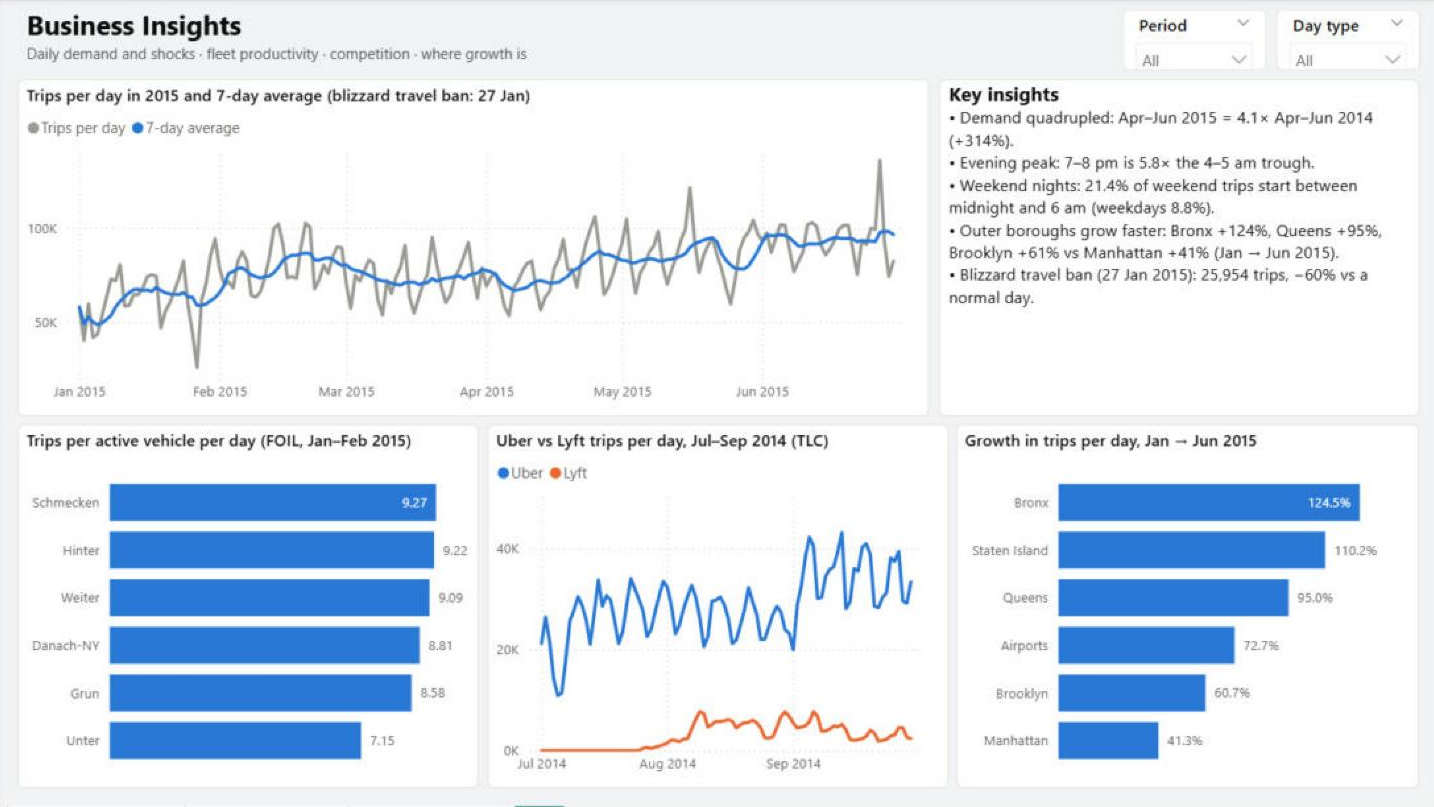

What the dashboard file says about the page in this screenshot:
{"tool":"powerbi","page":{"name":"Business Insights","canvas":[1280,720],"ordinal":2},"visuals":[{"type":"textbox","box":[16,8,976,56],"z":1000},{"type":"slicer","fields":{"Values":["Date.Period"]},"box":[1000,10,128,54],"z":2000},{"type":"slicer","fields":{"Values":["Date.Day Type"]},"box":[1136,10,128,54],"z":3000},{"type":"lineChart","title":"Trips per day in 2015 and 7-day average (blizzard travel ban: 27 Jan)","fields":{"Category":["Date.Date"],"Y":["_Measures.Trips 2015","_Measures.Trips 7-Day Avg 2015"]},"box":[16,72,812,300],"z":4000},{"type":"textbox","box":[836,72,428,300],"z":5000},{"type":"clusteredBarChart","title":"Trips per active vehicle per day (FOIL, Jan–Feb 2015)","fields":{"Category":["dim_base.base_name"],"Y":["_Measures.Trips per Active Vehicle per Day"]},"box":[16,380,410,324],"z":6000},{"type":"lineChart","title":"Uber vs Lyft trips per day, Jul–Sep 2014 (TLC)","fields":{"Category":["Date.Date"],"Y":["_Measures.Uber Trips (TLC)","_Measures.Lyft Trips (TLC)"]},"box":[434,380,410,324],"z":7000},{"type":"clusteredBarChart","title":"Growth in trips per day, Jan → Jun 2015","fields":{"Category":["dim_zone.service_area"],"Y":["_Measures.Area Growth Jan-Jun %"]},"box":[852,380,412,324],"z":8000}]}

Visuals, with their boxes in screenshot pixels (x1, y1, x2, y2), scaled from the page's 1280x720 canvas onto the 1434x807 screenshot:
textbox: pyautogui.locateOnScreen(18, 9, 1111, 72)
slicer - Date.Period: pyautogui.locateOnScreen(1120, 11, 1264, 72)
slicer - Date.Day Type: pyautogui.locateOnScreen(1273, 11, 1416, 72)
"Trips per day in 2015 and 7-day average (blizzard travel ban: 27 Jan)" lineChart: pyautogui.locateOnScreen(18, 81, 928, 417)
textbox: pyautogui.locateOnScreen(937, 81, 1416, 417)
"Trips per active vehicle per day (FOIL, Jan–Feb 2015)" clusteredBarChart: pyautogui.locateOnScreen(18, 426, 477, 789)
"Uber vs Lyft trips per day, Jul–Sep 2014 (TLC)" lineChart: pyautogui.locateOnScreen(486, 426, 946, 789)
"Growth in trips per day, Jan → Jun 2015" clusteredBarChart: pyautogui.locateOnScreen(955, 426, 1416, 789)
